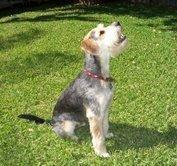wire-haired_fox_terrier: (16, 20, 129, 160)
